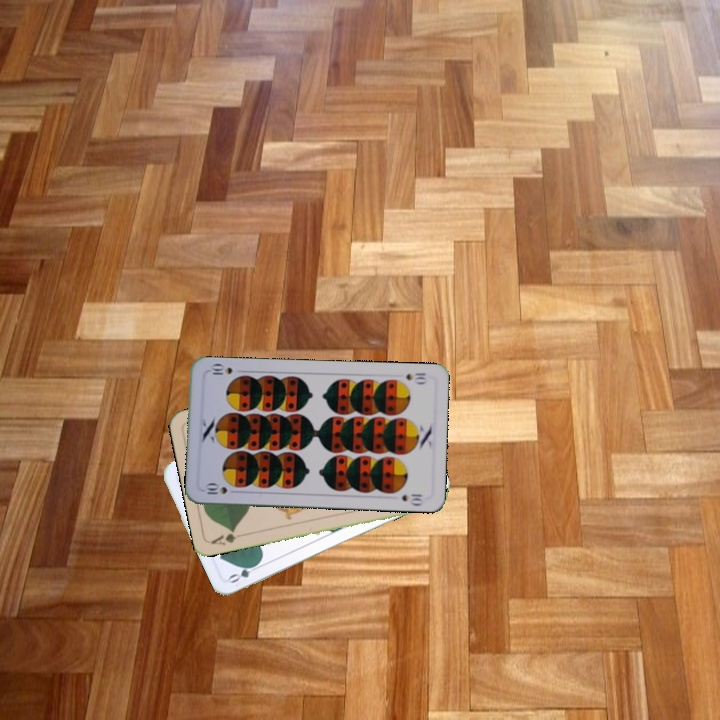GA: (208, 526, 239, 548)
GO: (225, 558, 264, 586)
S10: (401, 368, 429, 386), (200, 481, 230, 497)
